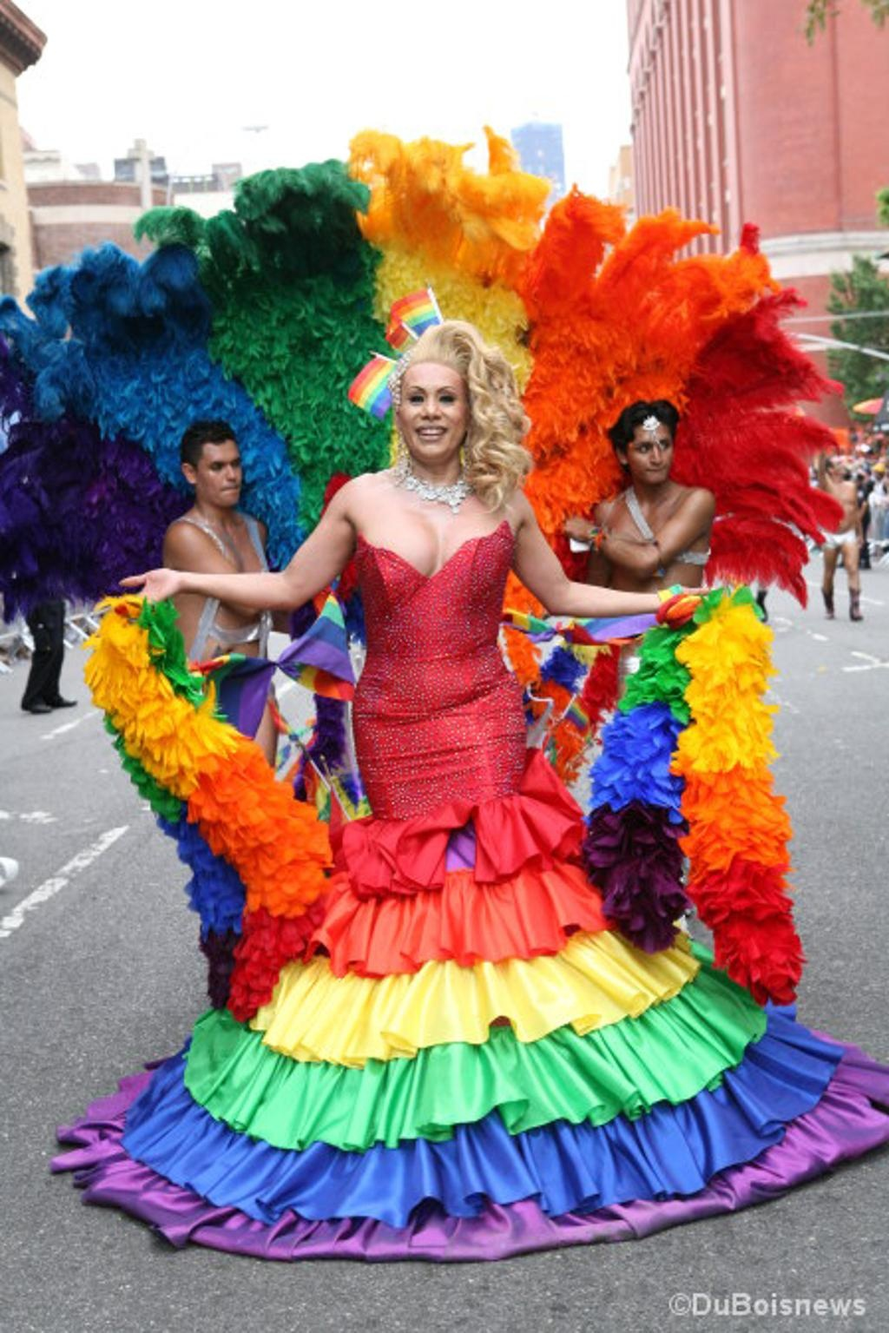human_face: (400, 358, 465, 460), (192, 437, 242, 505), (624, 416, 671, 484)
